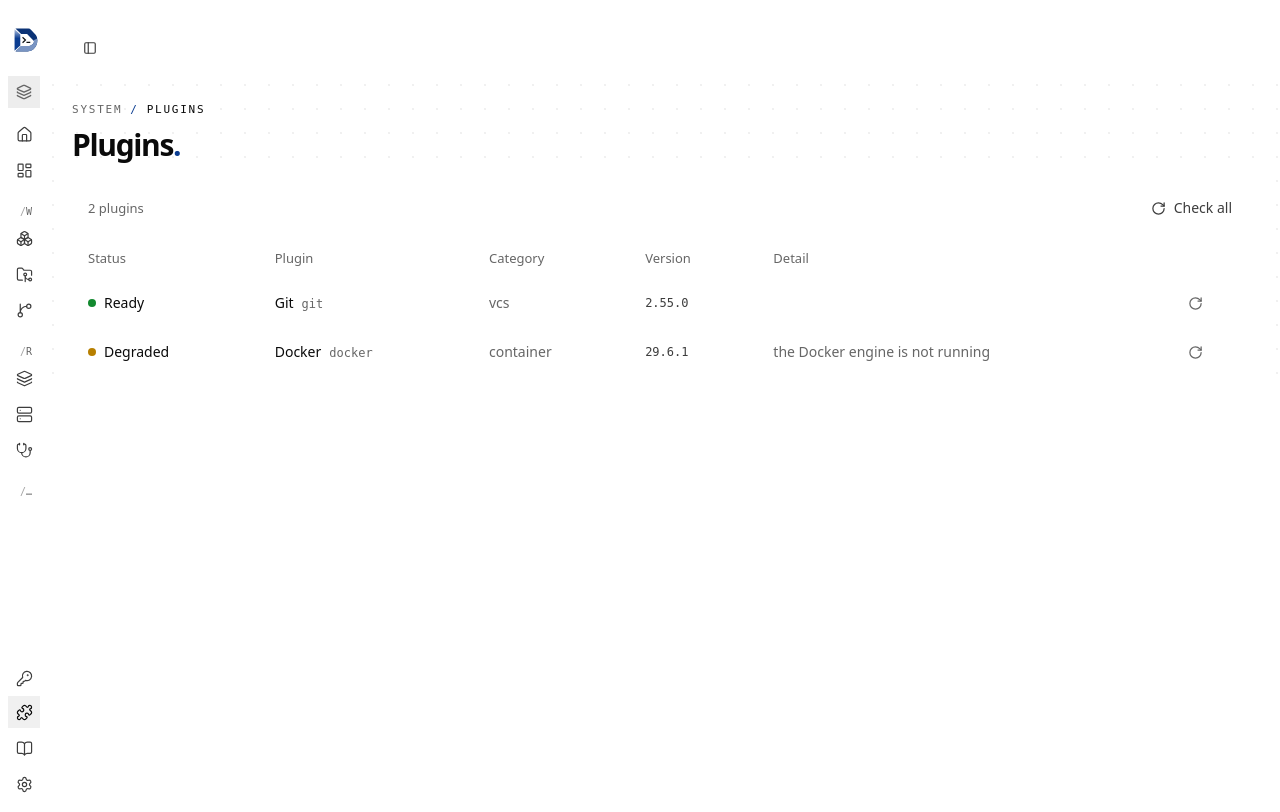
Test case: pages › re-checks one plugin and updates its row
The width and height of the screenshot is (1280, 812).
Step 1. Click the button named "Check Docker again" → (1196, 352), box [1180,336,1212,368]
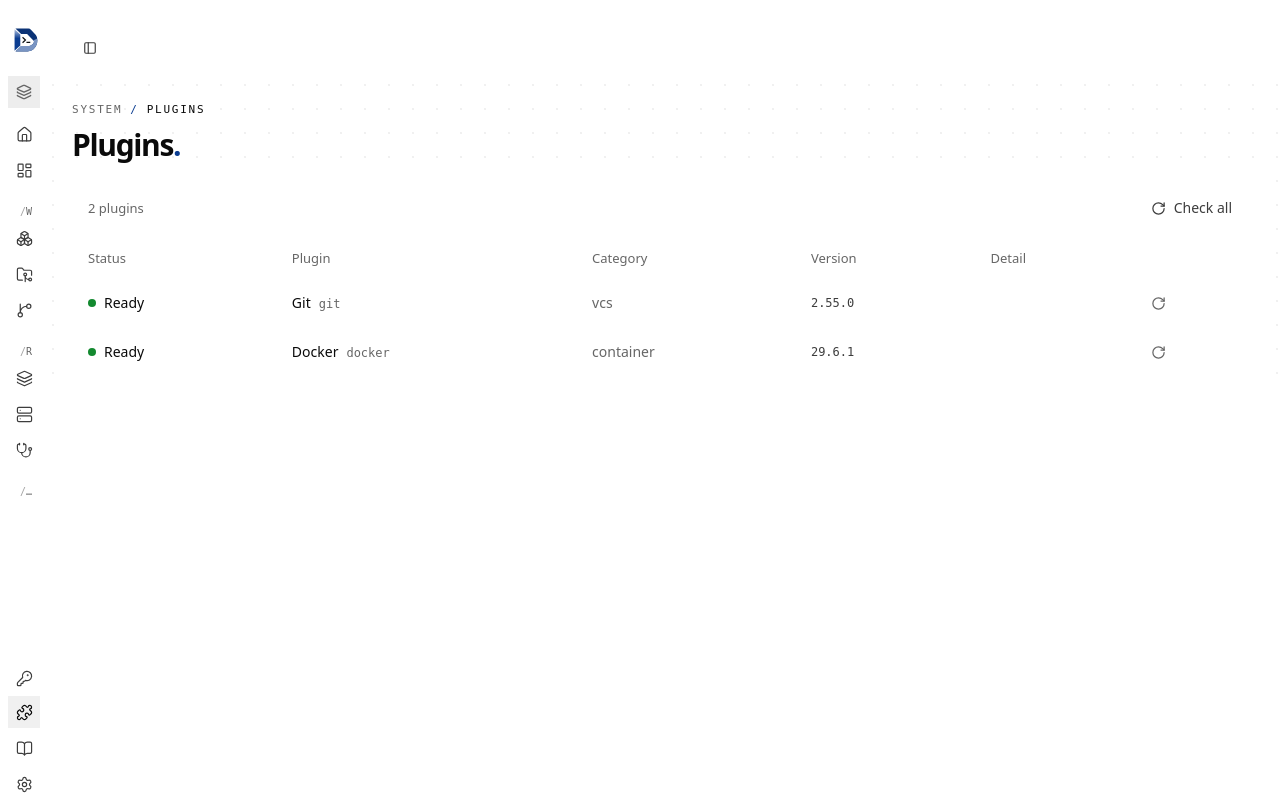
expect the text "Ready" in the row of "container" is shown: met, box [104,342,144,361]
